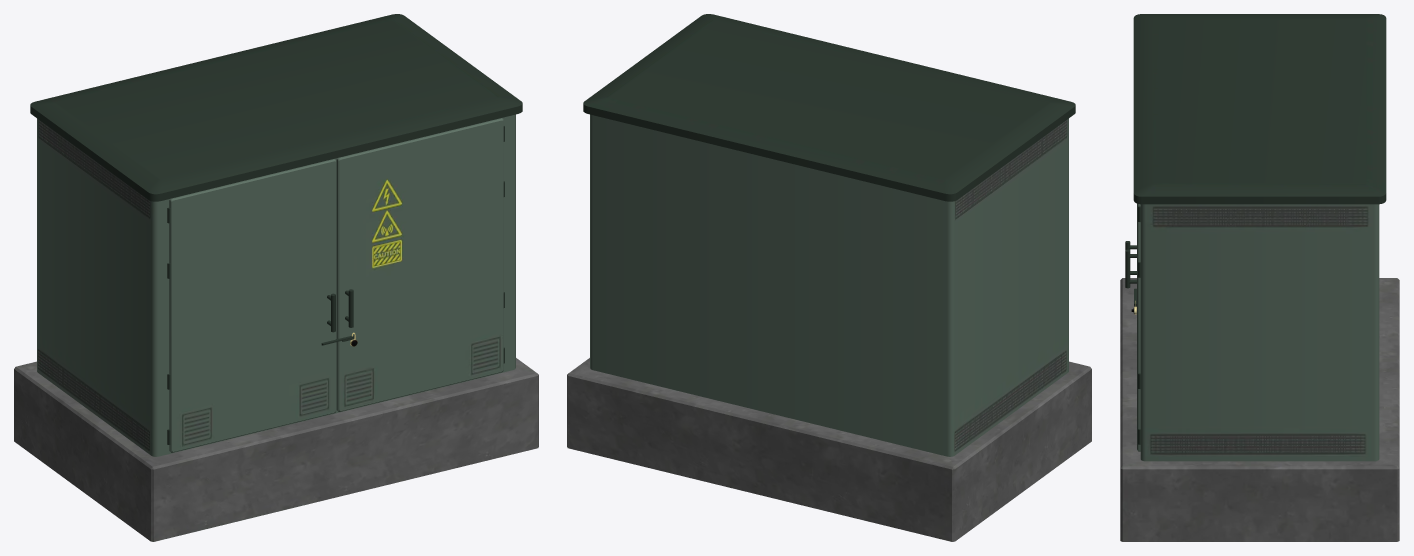
The picture shows the model from 3 angles, left to right: view 1: azimuth 30°, elevation 25°; view 2: azimuth 150°, elevation 25°; view 3: azimuth 270°, elevation 25°; orthographic projection.
Parts seen in each view (by area): view 1: Plane; view 2: Plane; view 3: Plane.
Boxes of the visible parts, x1=… form: Plane: x1=14, y1=14, x2=538, y2=541; Plane: x1=567, y1=14, x2=1091, y2=541; Plane: x1=1120, y1=14, x2=1399, y2=541.
Bounding box in the file's own units: 19.53 × 16.55 × 12.12.
1 material, 1 textured.
